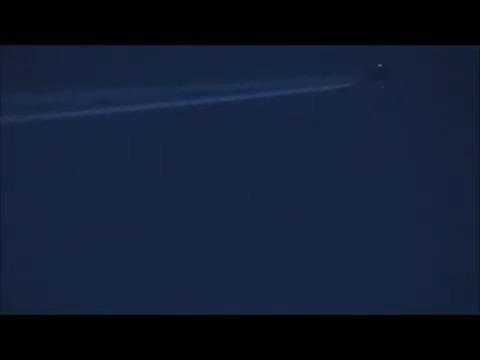Plane: (167, 57, 400, 109)
